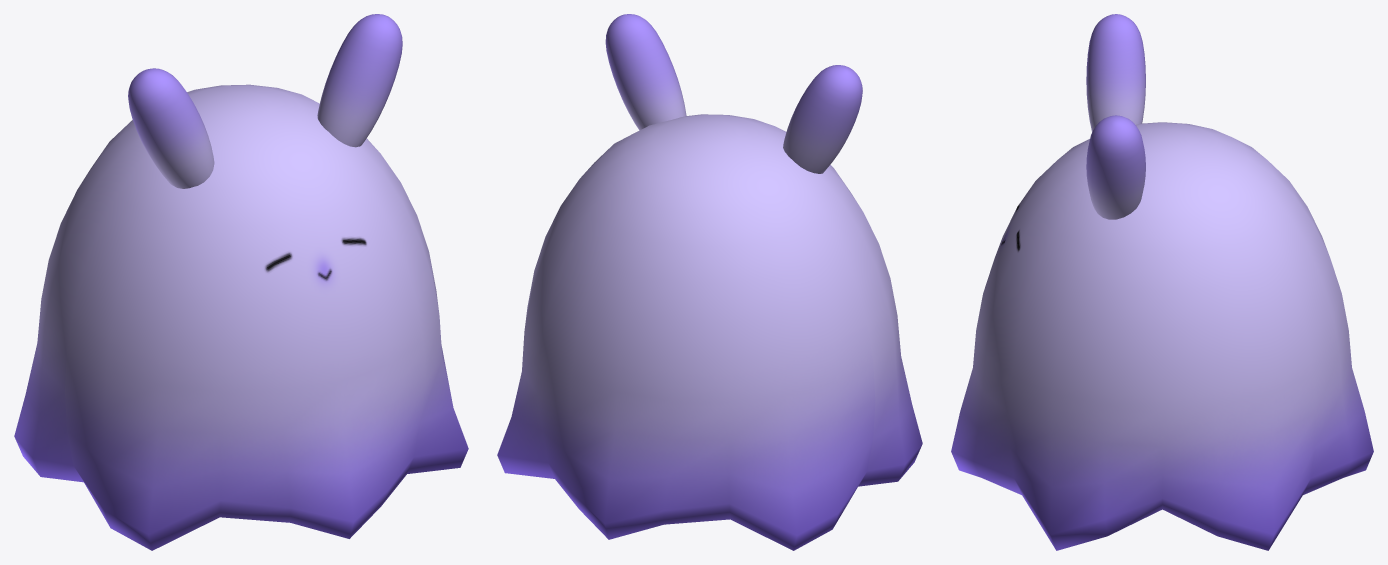
The model's file is menndako.fbx.
The picture shows the model from 3 angles, left to right: view 1: azimuth 30°, elevation 25°; view 2: azimuth 150°, elevation 25°; view 3: azimuth 270°, elevation 25°; orthographic projection. The views are drawn at different scales.
Visible parts, largest first — view 1: body, right_mimi, left_mimi; view 2: body, right_mimi, left_mimi; view 3: body, left_mimi, right_mimi.
Boxes of the visible parts, box(x1,y1,x2,y2) form: body: box(14, 84, 468, 550); right_mimi: box(317, 14, 402, 147); left_mimi: box(128, 68, 214, 188); body: box(497, 114, 922, 550); right_mimi: box(605, 14, 686, 130); left_mimi: box(783, 65, 862, 173); body: box(951, 122, 1373, 550); left_mimi: box(1086, 14, 1145, 132); right_mimi: box(1086, 115, 1145, 219).
Size of the model in its own units: 1.18 by 1.42 by 1.32.
2 materials, 2 textured.
